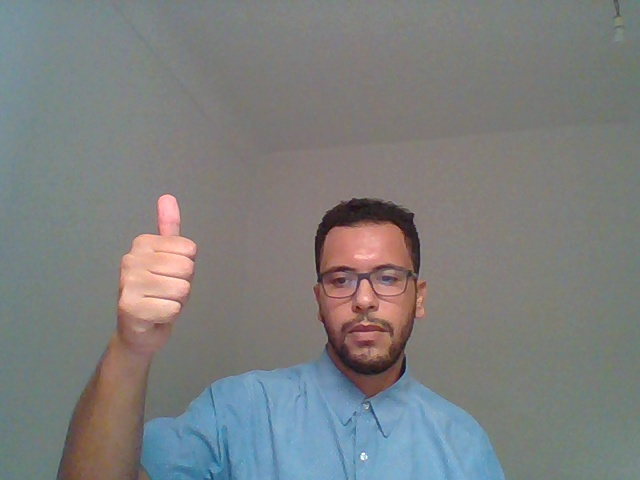ok: (78, 162, 214, 408)
